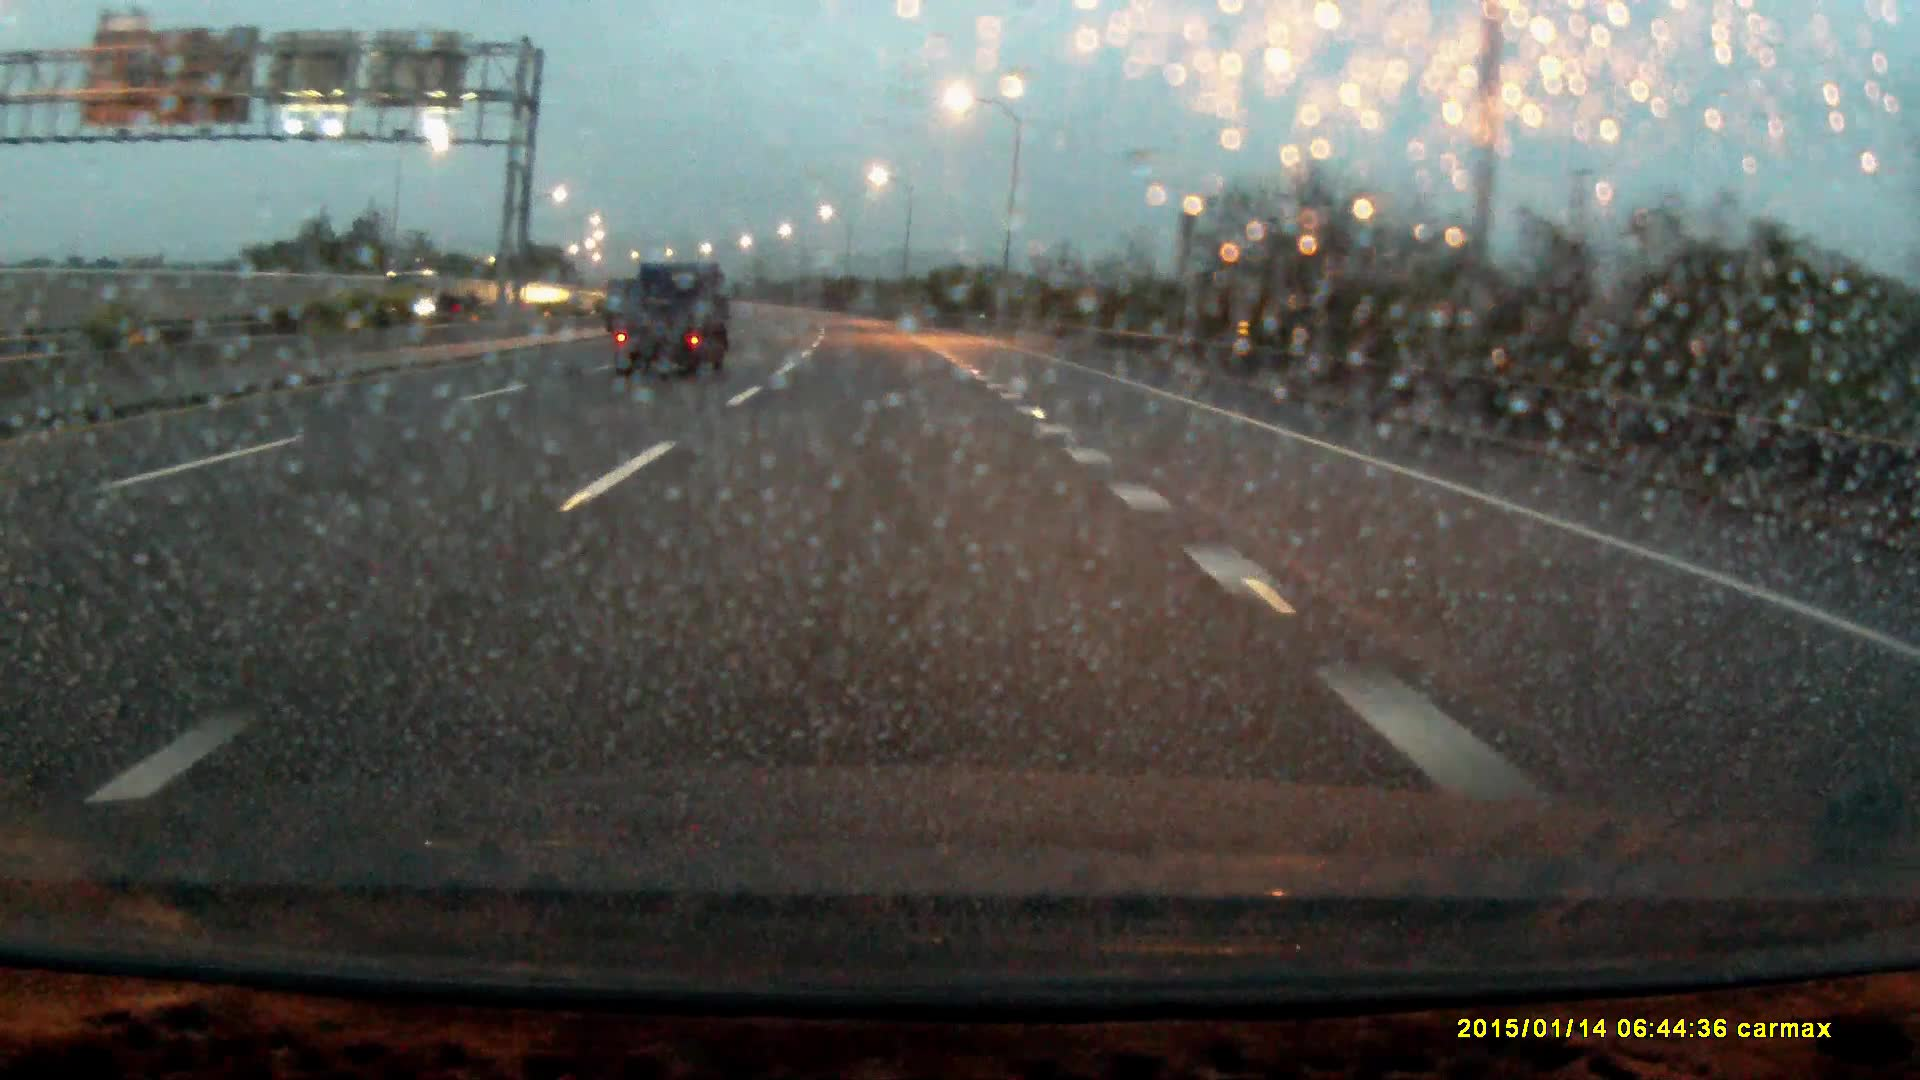vehicle: (612, 260, 733, 381), (382, 264, 491, 318)
